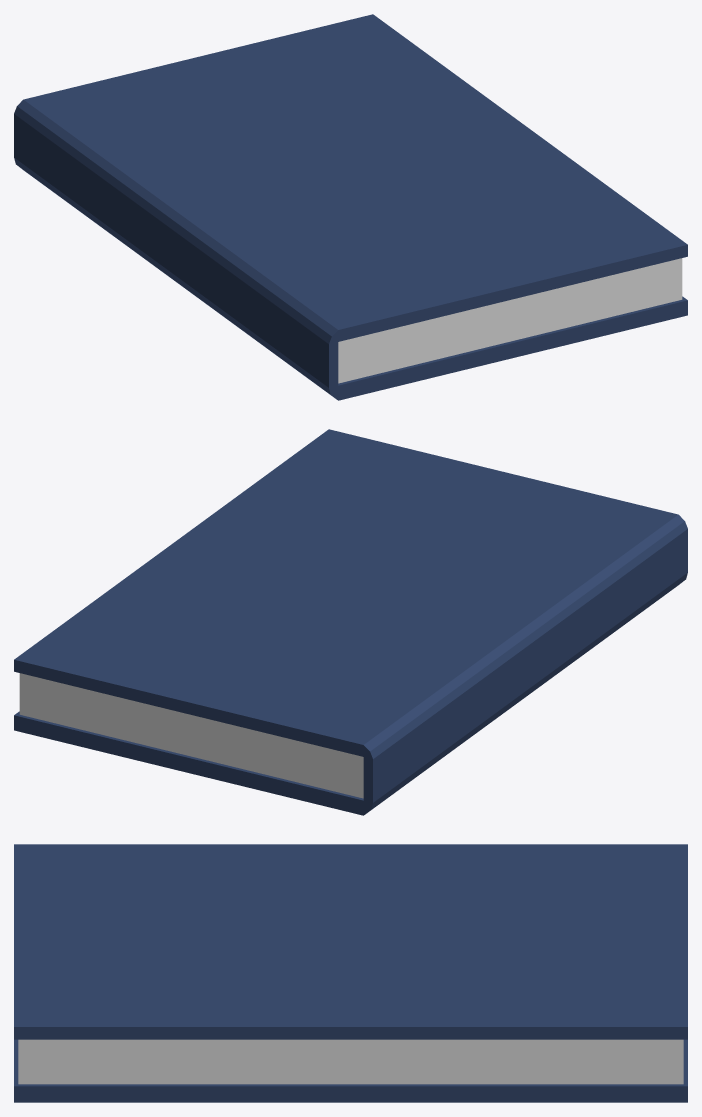
File: libroAzul.fbx
3 views of the same model, one above another, from view 1: azimuth 30°, elevation 25°; view 2: azimuth 150°, elevation 25°; view 3: azimuth 270°, elevation 25° (orthographic). The views are drawn at different scales.
Visible parts, largest first — view 1: Cube; view 2: Cube; view 3: Cube.
Boxes of the visible parts, x1,y1,x2,y2 form: Cube: [14, 14, 687, 400]; Cube: [14, 429, 687, 815]; Cube: [14, 844, 687, 1102].
Size of the model in its own units: 78.65 by 14.8 by 119.
